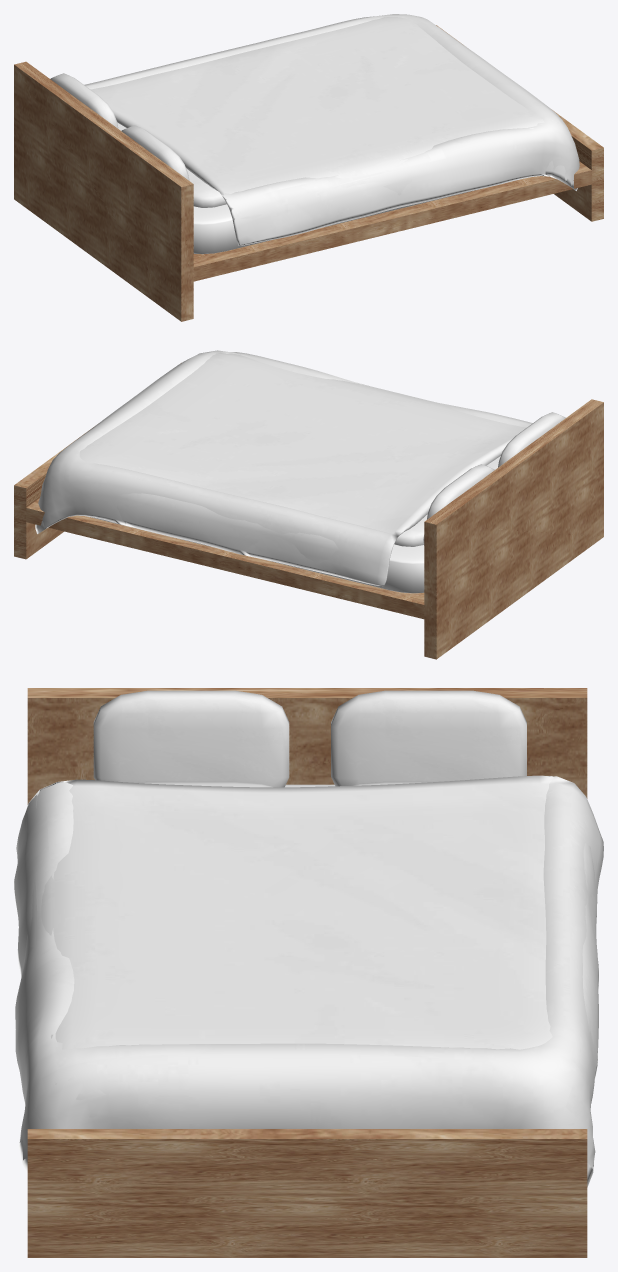
The model's file is double_bed.glb.
3 views of the same model, one above another, from view 1: azimuth 30°, elevation 25°; view 2: azimuth 150°, elevation 25°; view 3: azimuth 270°, elevation 25° (orthographic). The views are drawn at different scales.
Visible parts, largest first — view 1: Duvet_0, Bedstead_6, Mattres_1, Pillow 2_3, Pillow 4_5, Pillow 1_2; view 2: Duvet_0, Bedstead_6, Mattres_1, Pillow 4_5, Pillow 2_3, Pillow 3_4; view 3: Duvet_0, Bedstead_6, Pillow 2_3, Pillow 4_5.
Part boxes in pixels (x1,y1,x2,y2): Duvet_0: (84,14,579,245); Bedstead_6: (14,25,603,321); Mattres_1: (193,180,517,254); Pillow 2_3: (121,125,189,180); Pillow 4_5: (50,73,118,128); Pillow 1_2: (186,168,226,207); Duvet_0: (35,350,532,586); Bedstead_6: (14,399,603,659); Mattres_1: (88,516,424,593); Pillow 4_5: (423,464,494,545); Pillow 2_3: (498,412,565,467); Pillow 3_4: (394,514,427,546); Duvet_0: (14,775,603,1187); Bedstead_6: (27,688,587,1257); Pillow 2_3: (93,690,289,787); Pillow 4_5: (331,690,526,786).
Bounding box in the file's own units: 17.66 × 5.67 × 12.78.
Materials: 3 (2 with a texture image).
